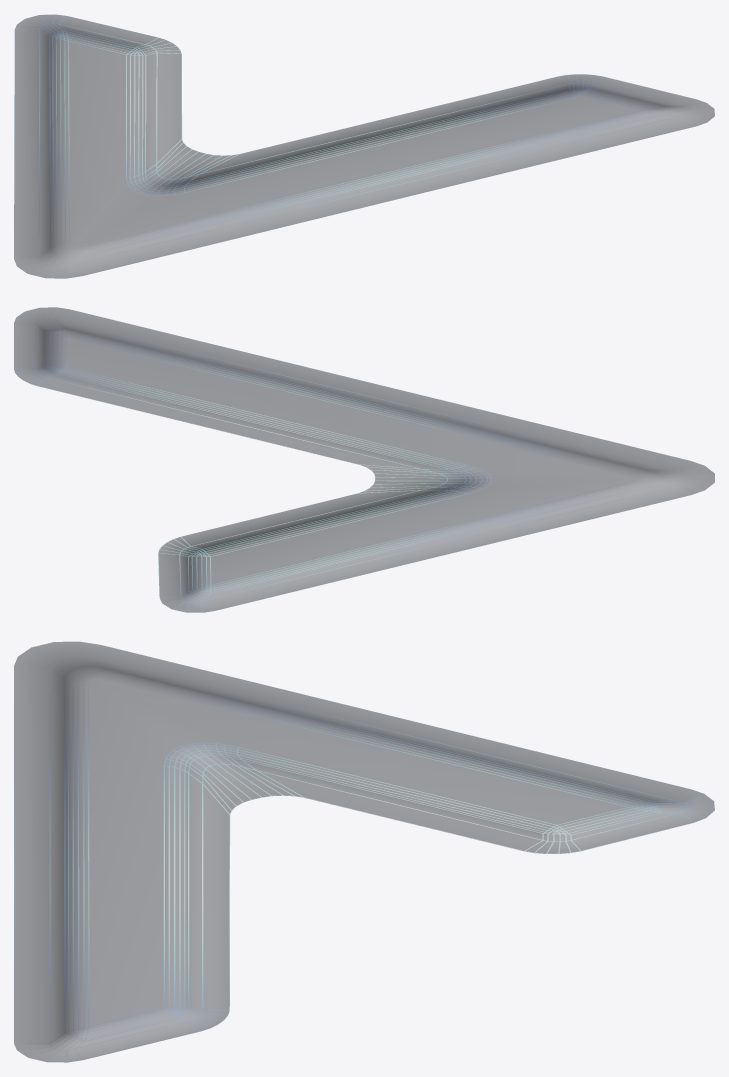
File: pressing2.glb
3 views of the same model, one above another, from view 1: azimuth 30°, elevation 25°; view 2: azimuth 150°, elevation 25°; view 3: azimuth 270°, elevation 25° (orthographic). The views are drawn at different scales.
Visible parts, largest first — view 1: steel.005, steel_wire; view 2: steel.005, steel_wire; view 3: steel.005, steel_wire.
Boxes of the visible parts, x1,y1,x2,y2 form: steel.005: (14, 14, 714, 278); steel_wire: (14, 15, 595, 208); steel.005: (14, 307, 714, 612); steel_wire: (30, 345, 491, 611); steel.005: (14, 641, 714, 1062); steel_wire: (14, 715, 706, 1029).
Bounding box in the file's own units: 4.86 × 0.001 × 3.42.
Materials: 2 (1 with a texture image).
